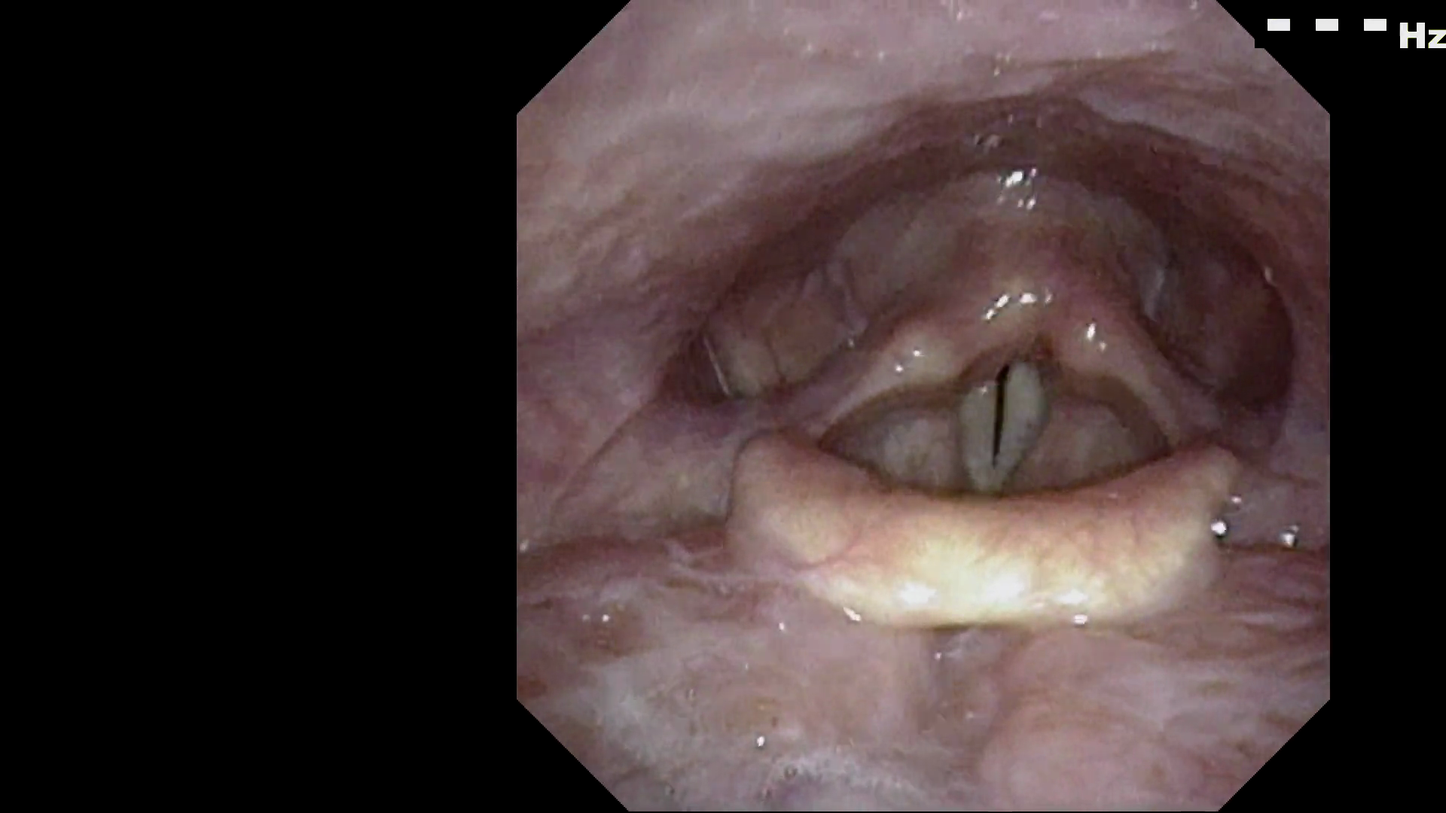epiglottis: (729, 447, 1253, 642)
trachea: (912, 284, 1098, 518)
